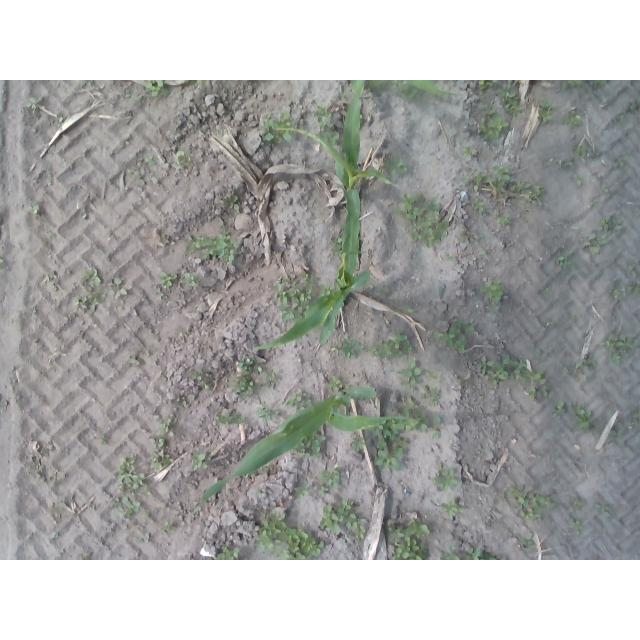Maize: (198, 386, 419, 503), (254, 182, 371, 349), (276, 84, 400, 190), (403, 80, 462, 97), (350, 81, 367, 92)
Weeds: (253, 509, 323, 560), (392, 192, 449, 248), (461, 166, 545, 203), (320, 500, 366, 541), (275, 274, 316, 319), (508, 485, 556, 523), (388, 518, 430, 560), (433, 318, 475, 355), (187, 236, 237, 265), (503, 352, 548, 384), (477, 103, 509, 141), (601, 333, 639, 363), (375, 421, 418, 447), (260, 111, 293, 143), (118, 453, 145, 491), (571, 401, 598, 437), (396, 359, 421, 391), (149, 438, 174, 470), (329, 338, 364, 359), (434, 462, 459, 491), (373, 448, 403, 472), (387, 331, 413, 357), (111, 495, 141, 517), (580, 233, 608, 256), (501, 88, 523, 117), (302, 434, 327, 459), (317, 467, 344, 489), (285, 389, 312, 410), (80, 267, 101, 293), (488, 362, 509, 387), (109, 277, 134, 298), (481, 277, 503, 300), (232, 374, 255, 396), (237, 355, 263, 374), (188, 368, 211, 389), (257, 401, 281, 421), (130, 158, 147, 186), (315, 105, 333, 131), (420, 384, 441, 406), (441, 499, 465, 518), (217, 410, 247, 424), (370, 341, 392, 359), (217, 544, 240, 561), (476, 356, 494, 377), (367, 80, 396, 93), (467, 548, 496, 561), (385, 157, 408, 173), (515, 532, 535, 549), (158, 272, 178, 289), (440, 544, 461, 560), (189, 453, 207, 471), (159, 419, 176, 438), (563, 111, 583, 127), (556, 250, 573, 268), (221, 196, 240, 212), (398, 401, 419, 415), (146, 80, 163, 97), (401, 87, 420, 102), (319, 131, 340, 144), (454, 370, 470, 387), (88, 294, 107, 307), (522, 387, 538, 402), (350, 436, 366, 451), (328, 376, 344, 391), (330, 236, 342, 256), (182, 272, 199, 286), (468, 198, 485, 211), (25, 96, 43, 108), (569, 497, 584, 511), (295, 483, 309, 498), (479, 81, 498, 92), (614, 156, 630, 169), (457, 231, 474, 243), (74, 295, 87, 310), (417, 412, 429, 428), (131, 533, 150, 543), (610, 423, 623, 437), (537, 110, 552, 122), (424, 371, 441, 381), (574, 143, 586, 157), (595, 504, 609, 516), (599, 216, 611, 229), (554, 400, 566, 413), (570, 520, 583, 532), (175, 151, 186, 165), (397, 305, 416, 313), (320, 285, 333, 296), (497, 213, 509, 224), (54, 503, 66, 514), (267, 370, 277, 383), (632, 408, 640, 424), (602, 185, 611, 199), (626, 286, 640, 295), (572, 174, 582, 186), (612, 286, 622, 298), (541, 99, 552, 109), (176, 395, 186, 406), (154, 291, 165, 301), (584, 358, 597, 366), (159, 521, 169, 531), (220, 225, 230, 235), (145, 156, 156, 165), (570, 81, 583, 88), (562, 369, 575, 376), (540, 385, 549, 395), (431, 430, 441, 439), (44, 175, 52, 186), (29, 205, 40, 213), (162, 233, 170, 244), (100, 436, 109, 445), (56, 112, 64, 122), (162, 87, 170, 97), (318, 486, 328, 494), (463, 147, 473, 154), (488, 305, 498, 312), (445, 253, 455, 260), (534, 348, 542, 356), (497, 492, 505, 500), (590, 199, 599, 206), (434, 416, 441, 425), (596, 80, 608, 85), (396, 81, 404, 88), (628, 263, 637, 269), (52, 533, 59, 540), (129, 356, 135, 364), (546, 321, 553, 327), (564, 162, 572, 167), (478, 250, 486, 255), (614, 226, 622, 230), (546, 288, 551, 293), (197, 81, 204, 84), (0, 258, 4, 263)
